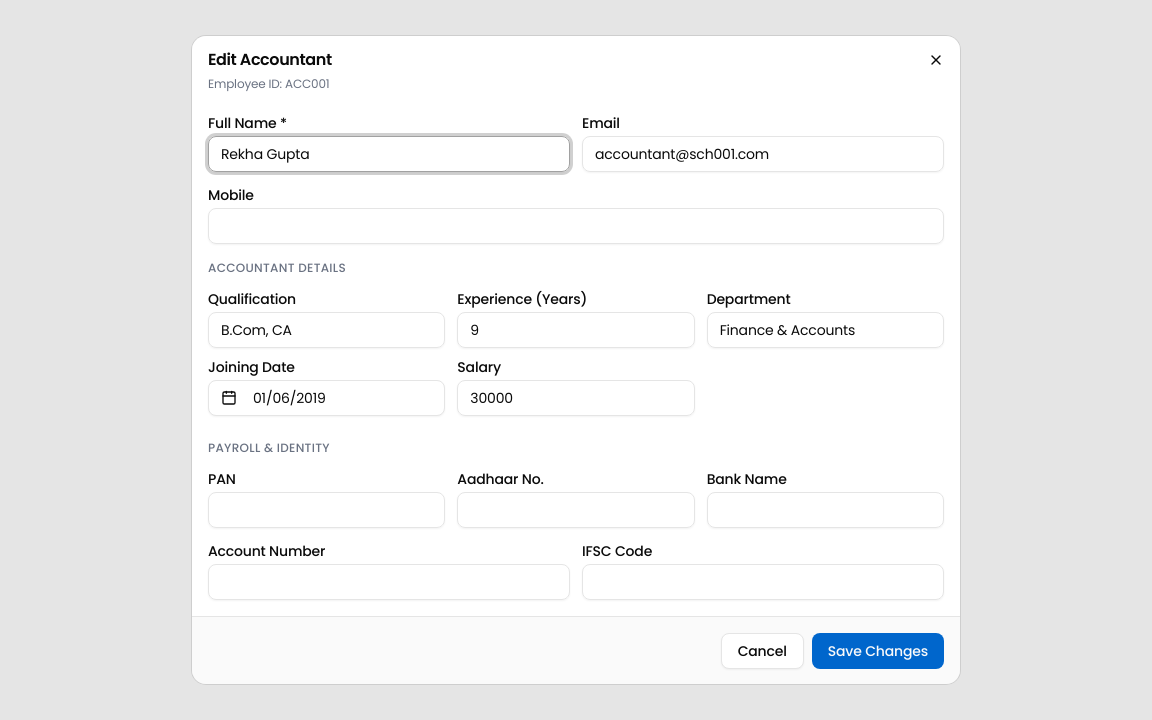
Scenario: EditStaffDialog (school-admin) › shows a validation error and does not submit when Name is cleared
Clear the field showing "Rekha Gupta" below "Full Name *" at (389, 154), box [208,136,570,172]
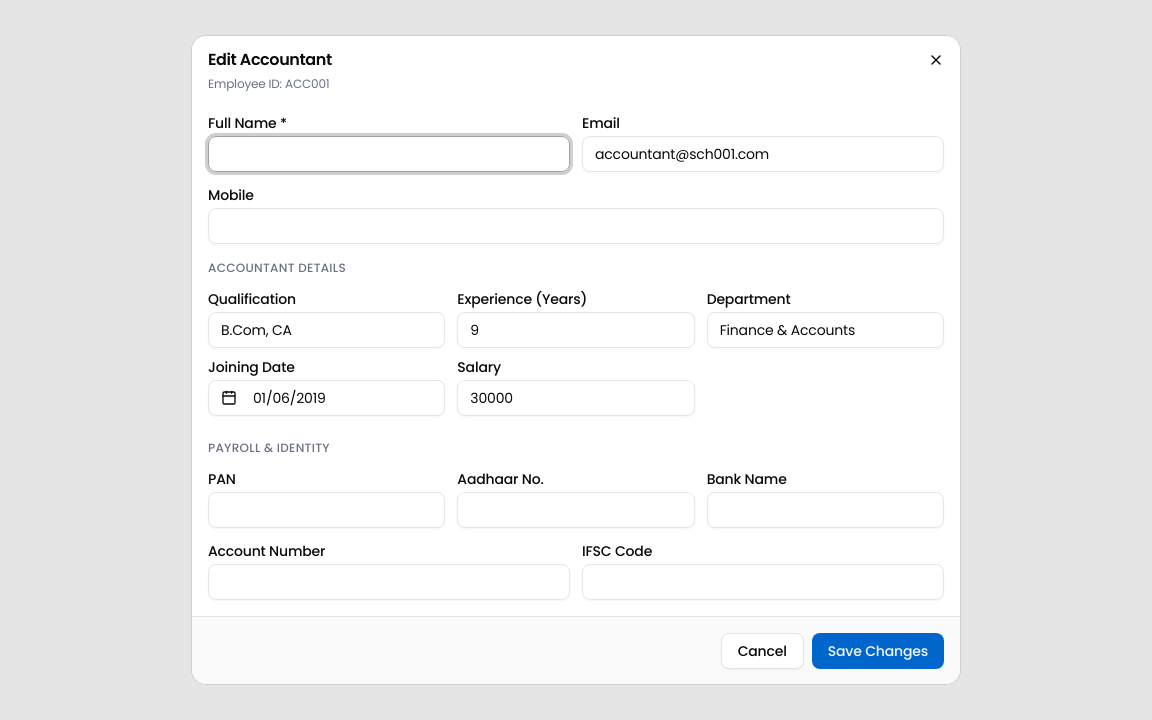
Click the button "Save Changes" at (878, 651), box [812,633,944,669]
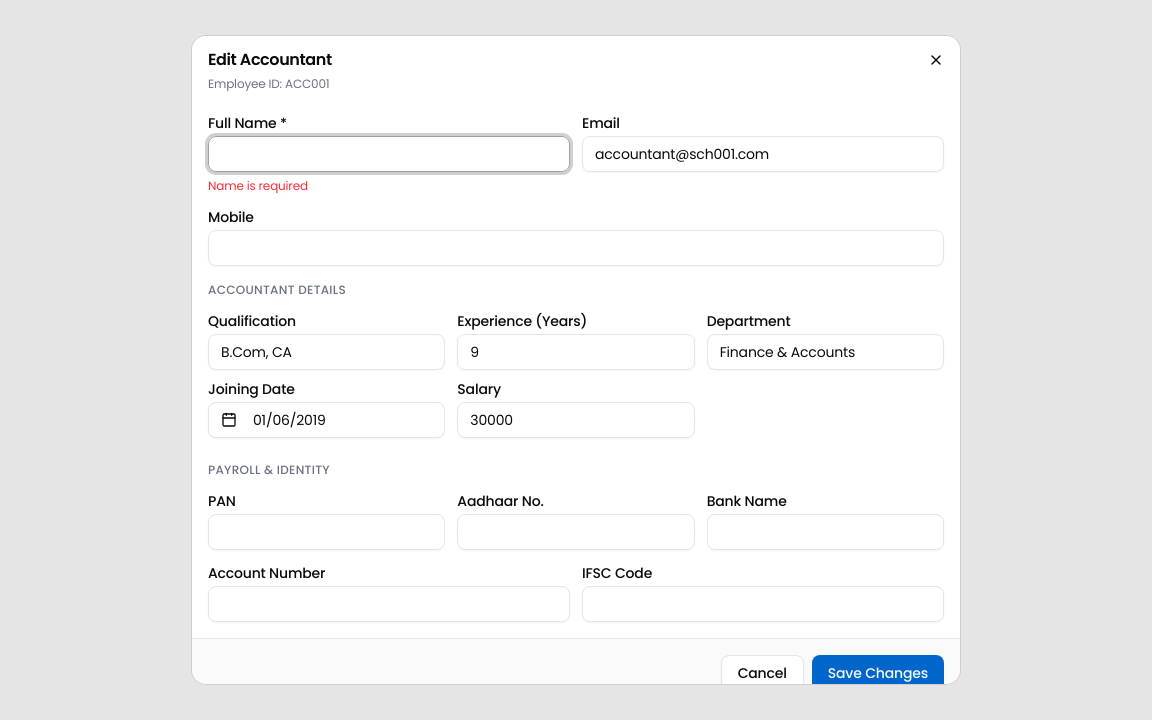
Expected: the text "Name is required" is shown, [208,177,308,194]
